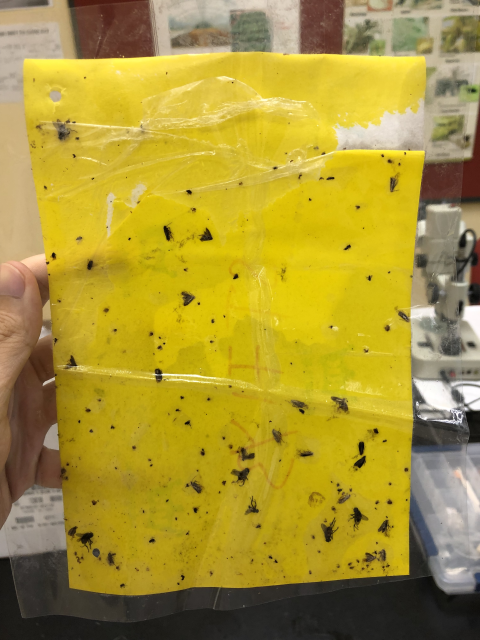DBM: (328, 392, 352, 417), (187, 475, 206, 498), (177, 288, 197, 308), (160, 221, 176, 245), (196, 225, 215, 245), (269, 427, 287, 448), (349, 455, 368, 473), (387, 171, 401, 194), (288, 398, 309, 411), (335, 491, 351, 505), (396, 308, 408, 325), (355, 439, 366, 457), (377, 545, 388, 563), (363, 550, 377, 564)
